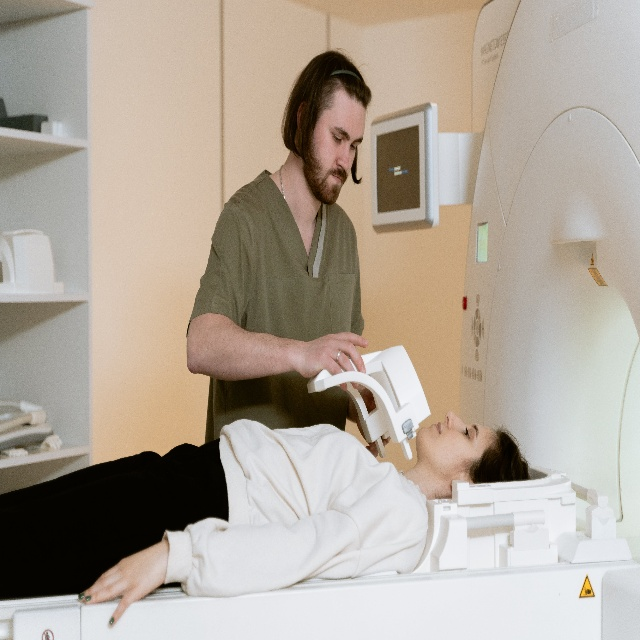Sin_guantes: (77, 545, 169, 629), (304, 326, 368, 398)
